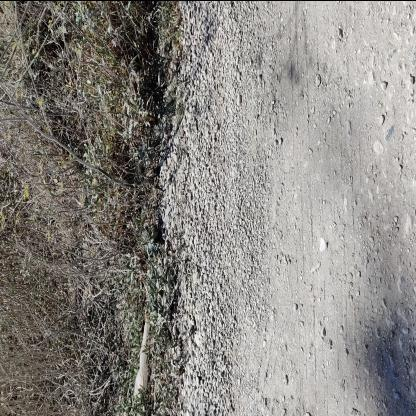plastik: (135, 317, 151, 401)
